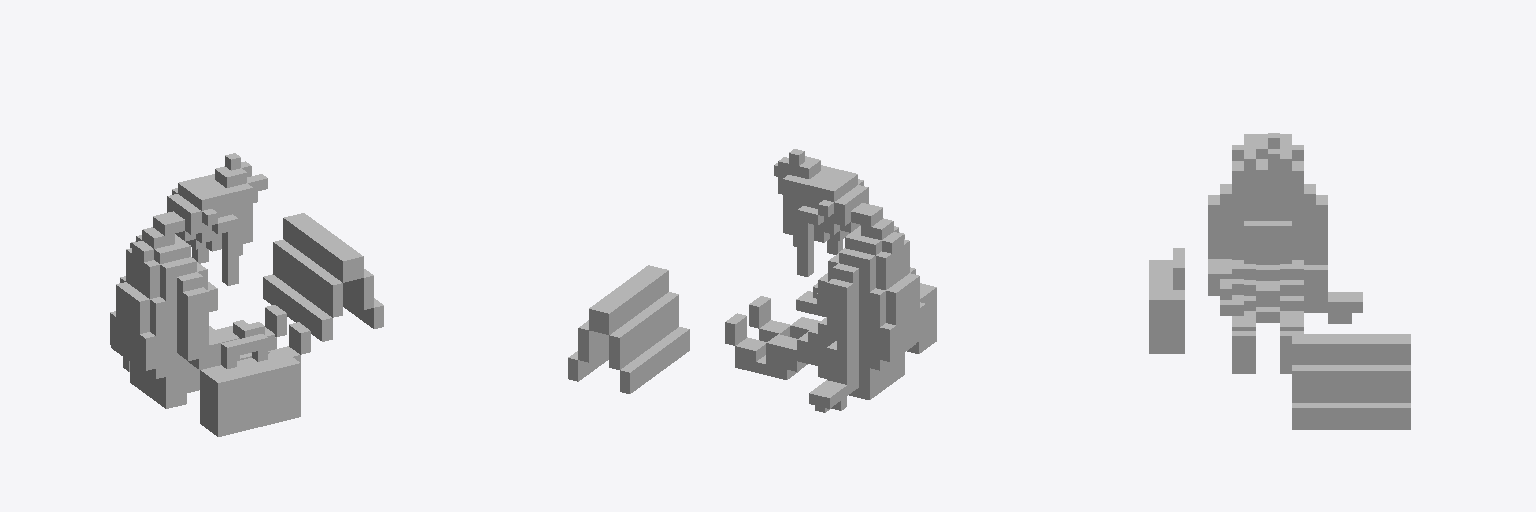
The model's file is Poor worker-1.obj.
The picture shows the model from 3 angles: view 1: azimuth 30°, elevation 25°; view 2: azimuth 150°, elevation 25°; view 3: azimuth 270°, elevation 25°; orthographic projection.
Parts seen in each view (by area): view 1: object 1; view 2: object 1; view 3: object 1.
Boxes of the visible parts, <box> form: object 1: <box>110,153,383,436</box>; object 1: <box>568,149,936,412</box>; object 1: <box>1149,133,1410,429</box>.
Bounding box in the file's own units: 2.6 × 2 × 2.2.